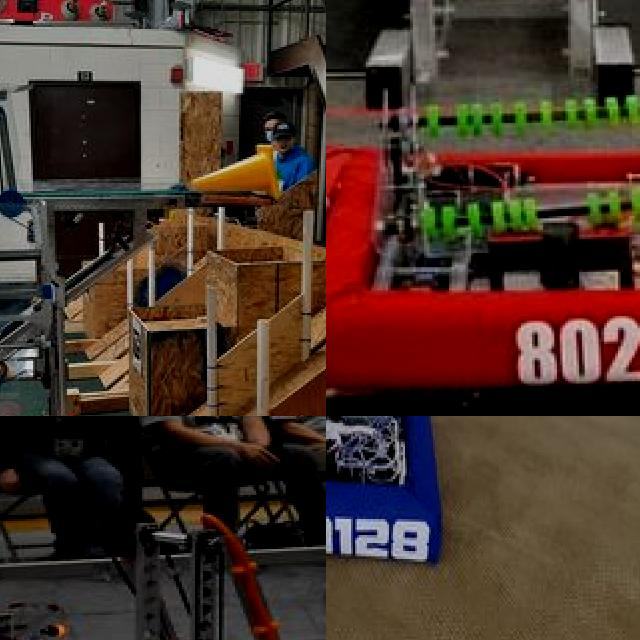FRC-Robots: (326, 39, 640, 401), (0, 118, 305, 416), (14, 494, 326, 640), (326, 416, 468, 593), (0, 585, 161, 640)
